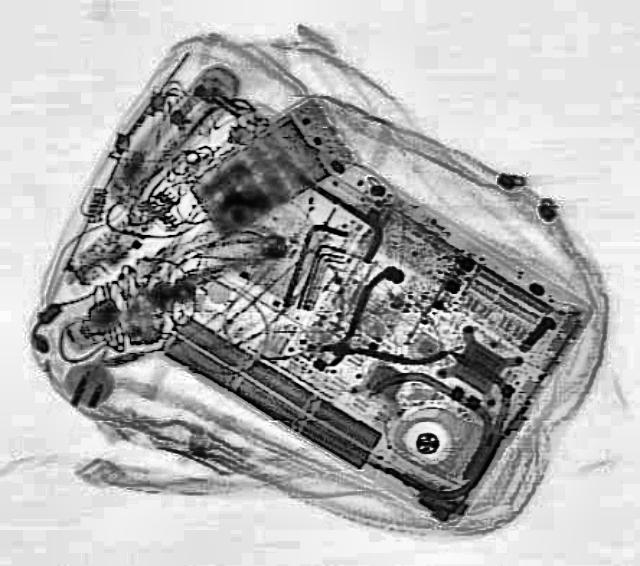Pliers: (286, 262, 454, 398)
